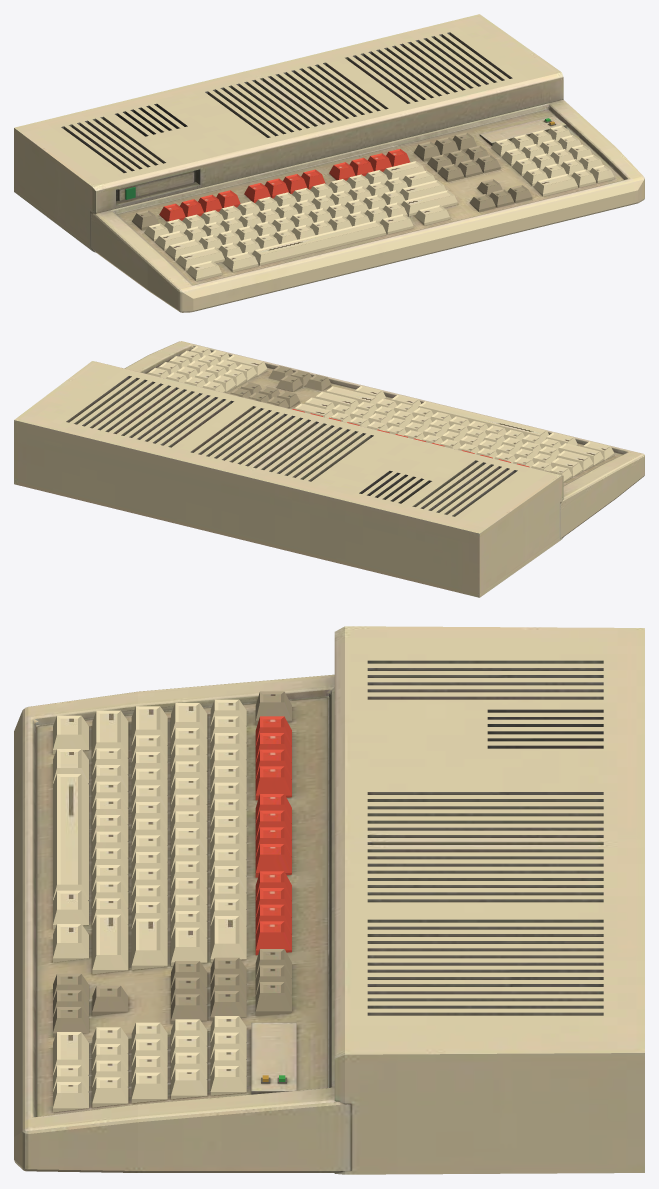
File: acorn.glb
3 views of the same model, one above another, from view 1: azimuth 30°, elevation 25°; view 2: azimuth 150°, elevation 25°; view 3: azimuth 270°, elevation 25° (orthographic). The views are drawn at different scales.
Parts seen in each view (by area): view 1: front-shell, a3000-keys-light; view 2: front-shell, a3000-keys-light; view 3: front-shell, a3000-keys-light.
Part boxes in pixels (x1,y1,x2,y2): front-shell: (14, 14, 644, 312); a3000-keys-light: (132, 125, 614, 281); front-shell: (14, 341, 644, 597); a3000-keys-light: (148, 345, 614, 481); front-shell: (14, 626, 644, 1174); a3000-keys-light: (53, 691, 291, 1112).
Size of the model in its own units: 0.49 by 0.064 by 0.305.
6 materials, 2 textured.
